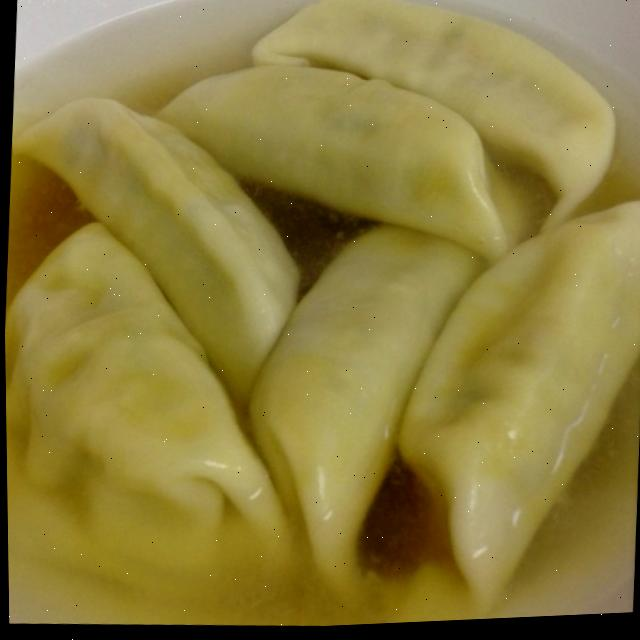带馅早点: (0, 3, 625, 634)
